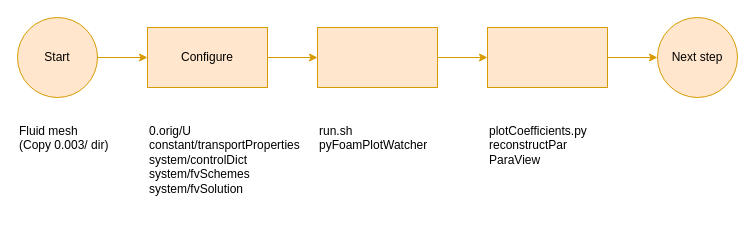
This 755x225 diagram has some shape labels left out. The centre of each missing label's shape, as x and y in pixels:
Analyze: point (547, 57)
Run: point (377, 57)
